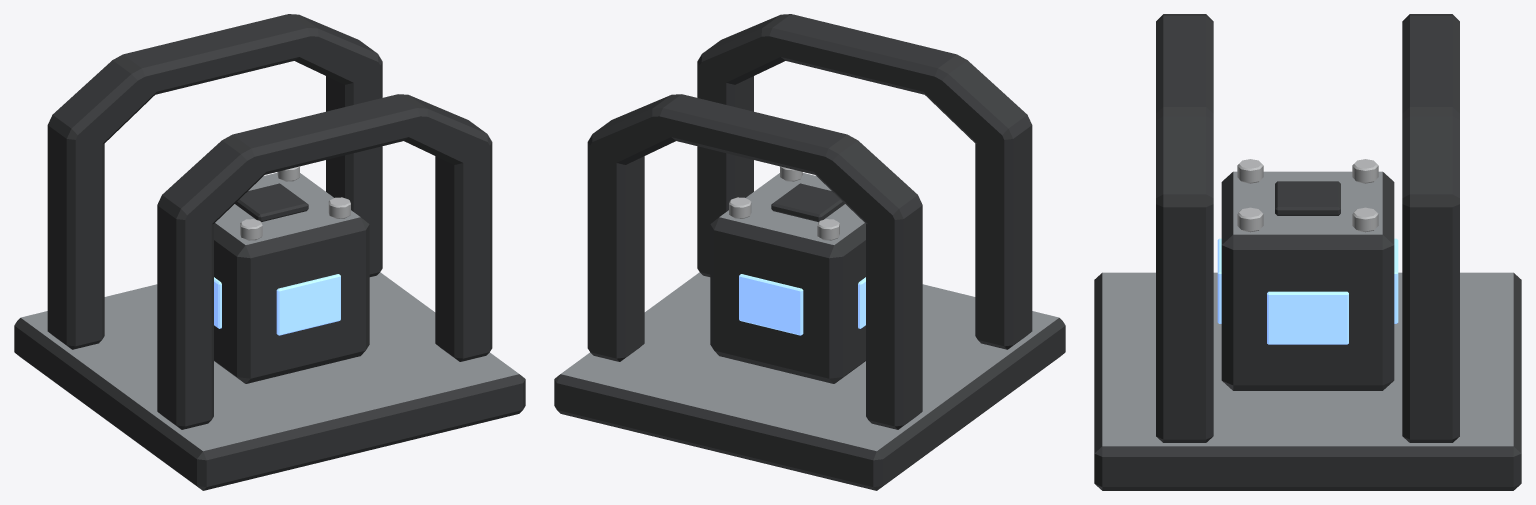
File: R4X_ModuleDurabilityBooster_LOD1.fbx
The picture shows the model from 3 angles, left to right: view 1: azimuth 30°, elevation 25°; view 2: azimuth 150°, elevation 25°; view 3: azimuth 270°, elevation 25°; orthographic projection. The views are drawn at different scales.
Visible parts, largest first — view 1: R4X_ModuleDurabilityBooster_LOD1; view 2: R4X_ModuleDurabilityBooster_LOD1; view 3: R4X_ModuleDurabilityBooster_LOD1.
Boxes of the visible parts, x1,y1,x2,y2 form: R4X_ModuleDurabilityBooster_LOD1: [14, 14, 525, 490]; R4X_ModuleDurabilityBooster_LOD1: [554, 14, 1065, 490]; R4X_ModuleDurabilityBooster_LOD1: [1094, 14, 1521, 490].
Bounding box in the file's own units: 0.52 × 0.46 × 0.52.
